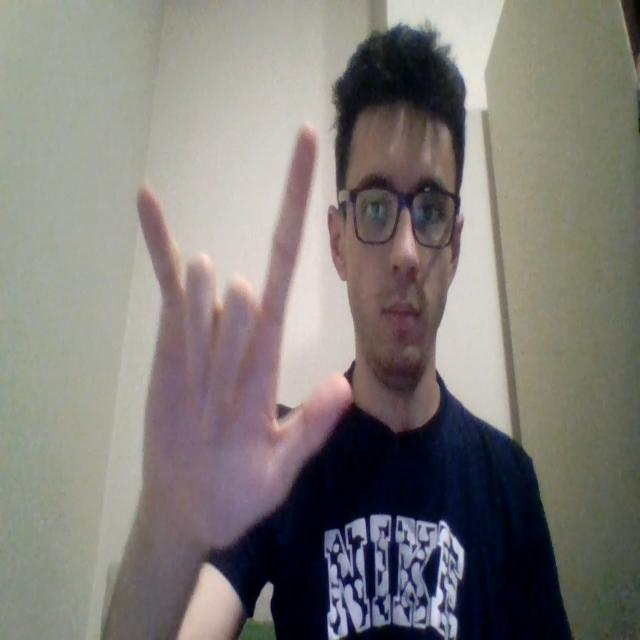iloveyou: (100, 121, 354, 637)
